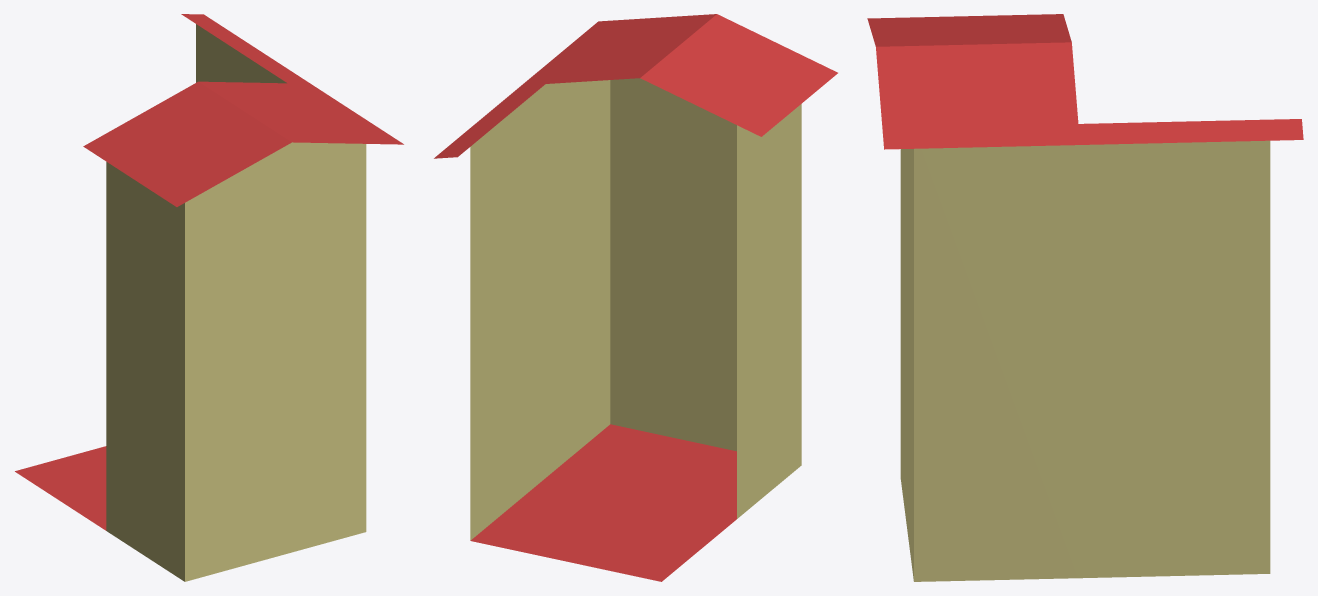
3 renders of one model, left to right at view 1: azimuth 30°, elevation 25°; view 2: azimuth 150°, elevation 25°; view 3: azimuth 270°, elevation 25°, orthographic. The views are drawn at different scales.
Bounding box in the file's own units: 5.08 × 6.92 × 8.47.
